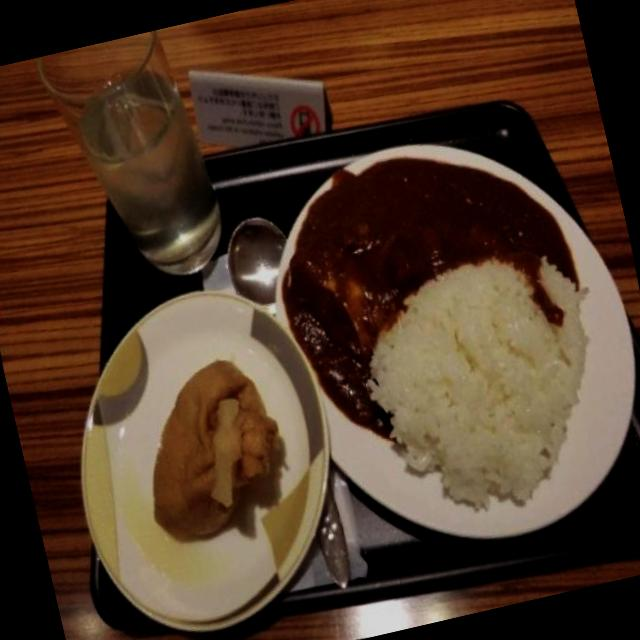Beef Curry: (258, 126, 574, 390)
